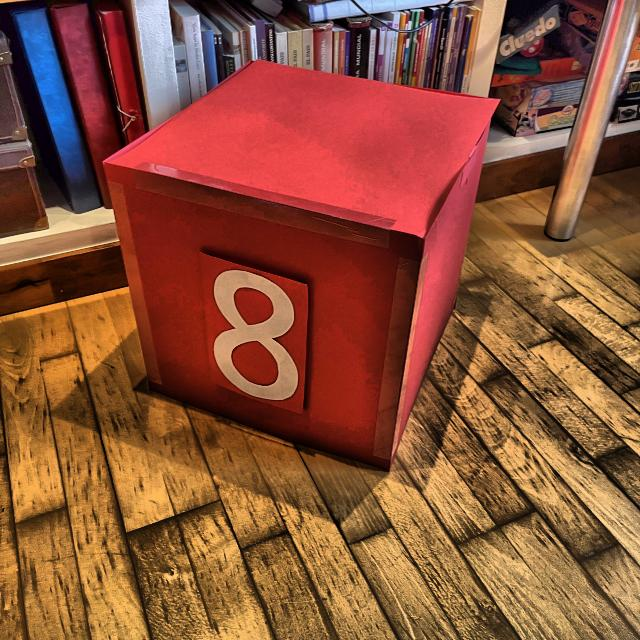eight: (211, 258, 305, 407)
red box: (103, 55, 501, 475)
